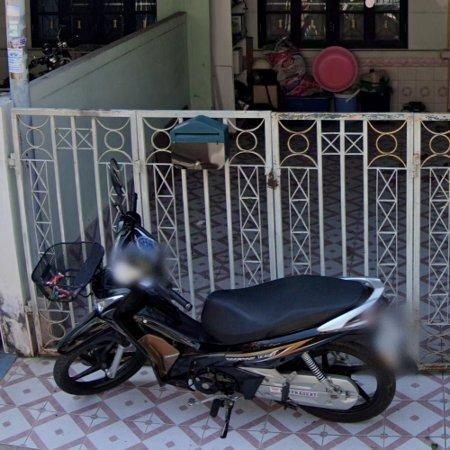motorcycles: (32, 202, 396, 437)
